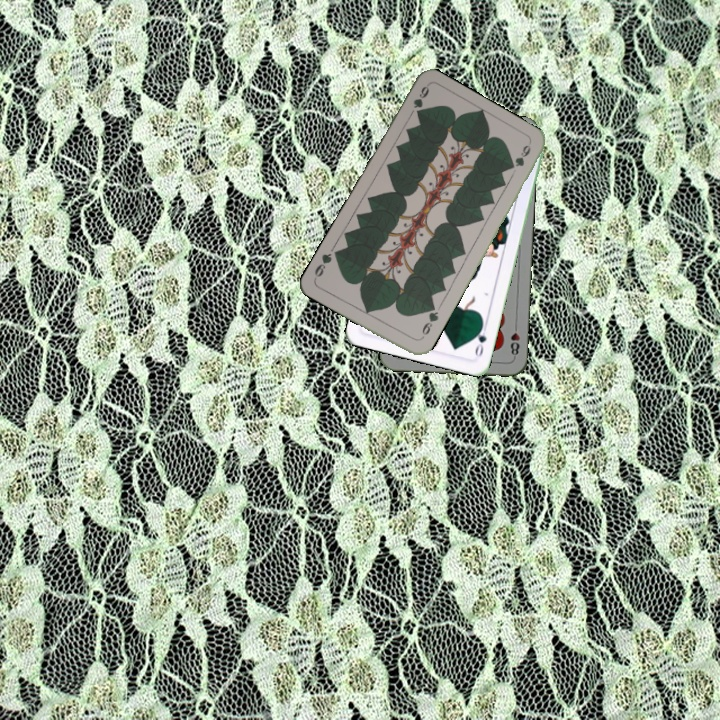G9: (416, 303, 441, 342), (409, 82, 432, 119)
GO: (471, 319, 490, 359)
H8: (506, 320, 522, 360)
